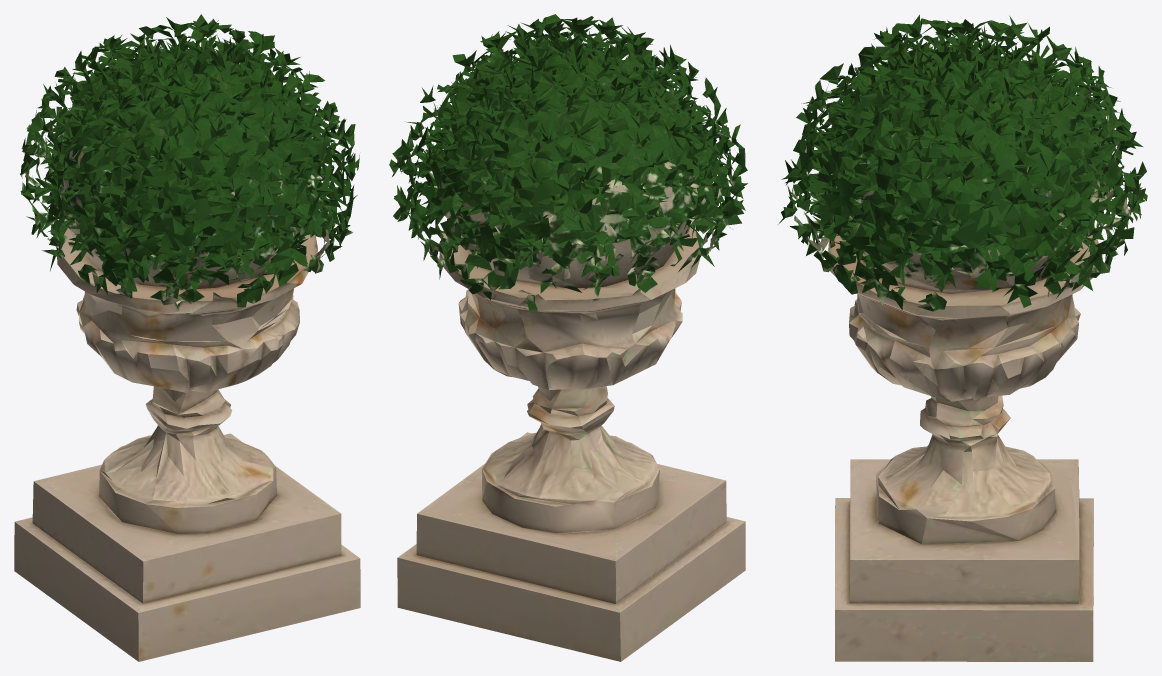
The model's file is monumentalVase-medio.glb.
3 renders of one model, left to right at view 1: azimuth 30°, elevation 25°; view 2: azimuth 150°, elevation 25°; view 3: azimuth 270°, elevation 25°, orthographic. The views are drawn at different scales.
Bounding box in the file's own units: 1.08 × 1.9 × 1.11.
1 material, 1 textured.
